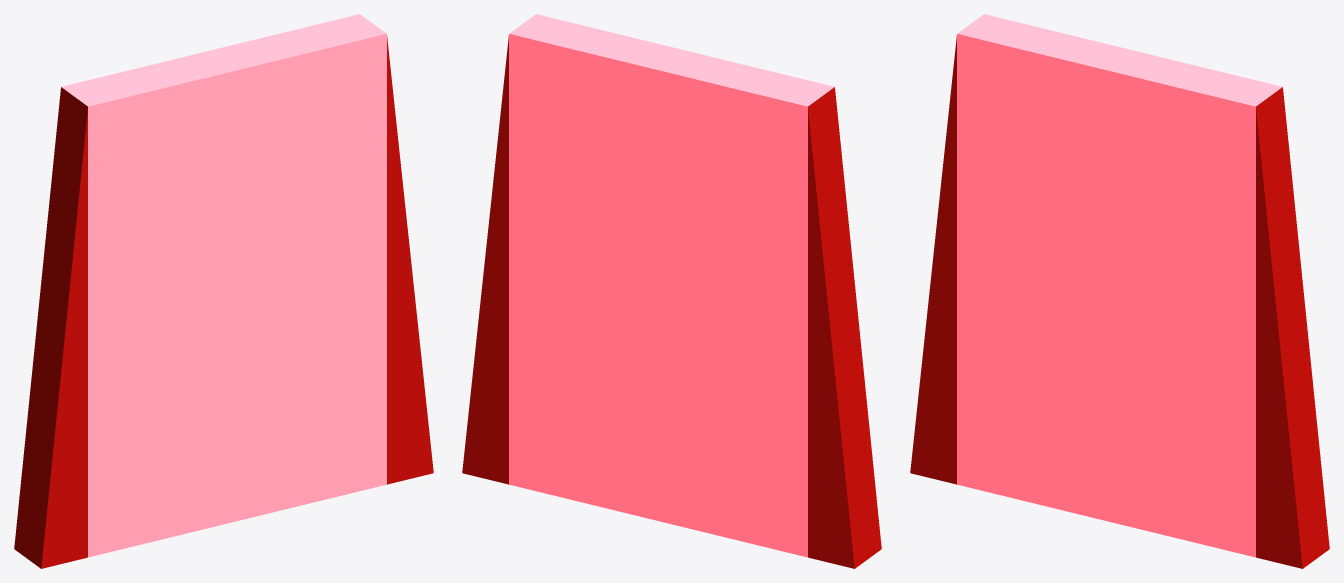
File: portal_red.fbx
3 renders of one model, left to right at view 1: azimuth 30°, elevation 25°; view 2: azimuth 150°, elevation 25°; view 3: azimuth 330°, elevation 25°, orthographic.
Parts seen in each view (by area): view 1: Cube.001; view 2: Cube.001; view 3: Cube.001.
Boxes of the visible parts, <box> form: Cube.001: <box>14,14,433,568</box>; Cube.001: <box>462,14,881,568</box>; Cube.001: <box>910,14,1329,568</box>.
Bounding box in the file's own units: 199 × 218 × 23.75.
